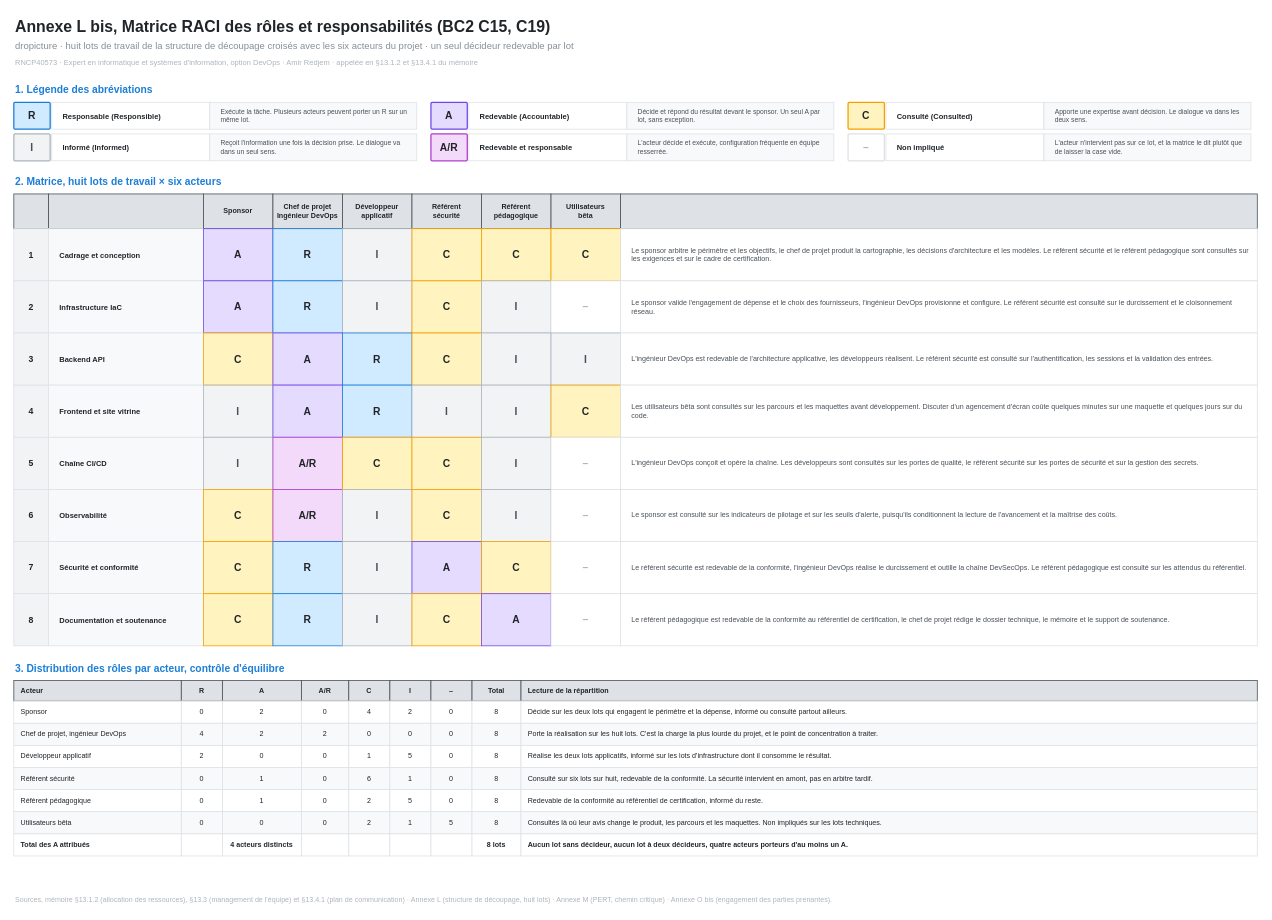
Image size: 1272x920. Some labels were removed from this diagram. Here are the shapes that lost their labels. From the top down, the box of each, then its label:
(13, 193, 49, 229): Lot
(48, 193, 203, 229): Intitulé du lot de travail
(620, 193, 1257, 229): Commentaire, motif de la répartition
